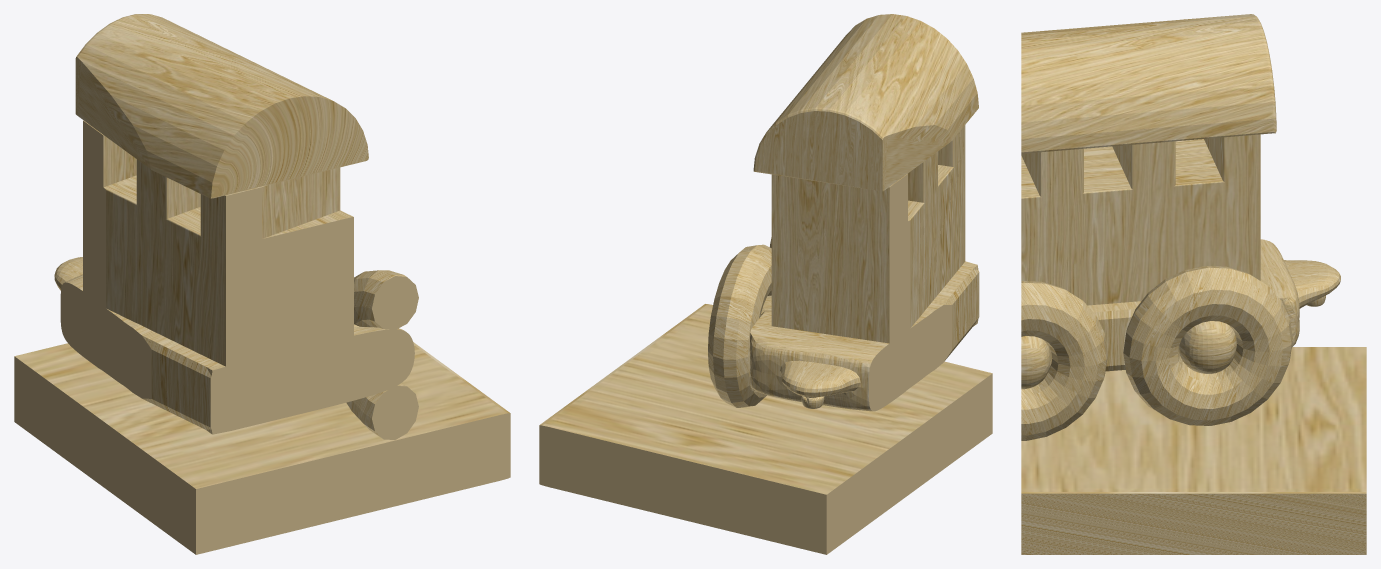
File: 5_Holzbahn.fbx
The picture shows the model from 3 angles, left to right: view 1: azimuth 30°, elevation 25°; view 2: azimuth 150°, elevation 25°; view 3: azimuth 270°, elevation 25°; orthographic projection. The views are drawn at different scales.
Parts seen in each view (by area): view 1: Cube.012, Cube.049, Cube.048, Cube.050, Cube.046; view 2: Cube.012, Cube.049, Cube.048, Cube.050, Cube.047, Cube.051; view 3: Cube.012, Cube.049, Cube.048, Cube.047, Cube.046, Cube.050, Cube.051.
Boxes of the visible parts, x1,y1,x2,y2 form: Cube.012: [14, 342, 510, 554]; Cube.049: [83, 120, 353, 366]; Cube.048: [75, 14, 368, 198]; Cube.050: [60, 274, 414, 434]; Cube.046: [346, 270, 418, 439]; Cube.012: [539, 304, 992, 554]; Cube.049: [771, 125, 965, 343]; Cube.048: [753, 14, 978, 191]; Cube.050: [749, 261, 979, 411]; Cube.047: [708, 244, 771, 407]; Cube.051: [780, 360, 860, 408]; Cube.012: [1021, 347, 1366, 554]; Cube.049: [1021, 134, 1260, 305]; Cube.048: [1021, 14, 1276, 153]; Cube.047: [1123, 266, 1292, 425]; Cube.046: [1021, 281, 1107, 440]; Cube.050: [1021, 239, 1299, 389]; Cube.051: [1284, 260, 1340, 308].
Bounding box in the file's own units: 500 × 659 × 500.
